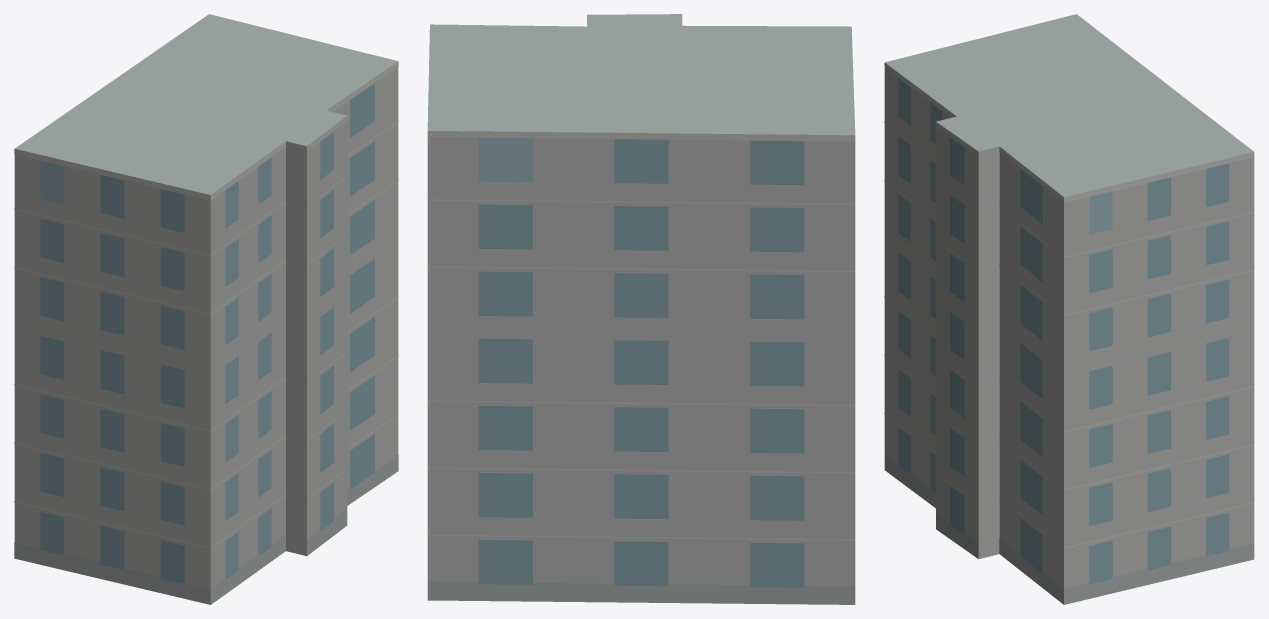
File: survey-upis-32762739.glb
The picture shows the model from 3 angles, left to right: view 1: azimuth 30°, elevation 25°; view 2: azimuth 150°, elevation 25°; view 3: azimuth 270°, elevation 25°; orthographic projection. The views are drawn at different scales.
Visible parts, largest first — view 1: survey-upis-32762739.tmp; view 2: survey-upis-32762739.tmp; view 3: survey-upis-32762739.tmp.
Part boxes in pixels (x1=…): survey-upis-32762739.tmp: x1=14, y1=14, x2=398, y2=604; survey-upis-32762739.tmp: x1=427, y1=14, x2=855, y2=604; survey-upis-32762739.tmp: x1=884, y1=14, x2=1254, y2=604.
Bounding box in the file's own units: 17.09 × 17.7 × 14.57.
